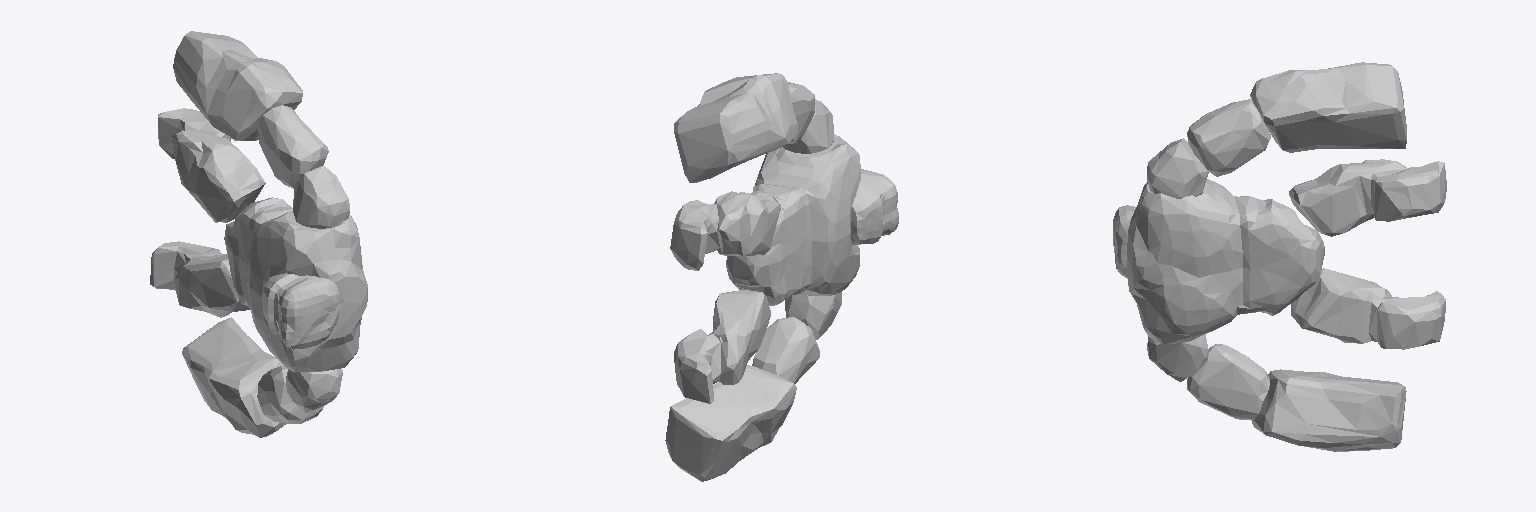
Rendered from Stone.obj.
3 renders of one model, left to right at view 1: azimuth 30°, elevation 25°; view 2: azimuth 150°, elevation 25°; view 3: azimuth 270°, elevation 25°, orthographic.
Parts seen in each view (by area): view 1: hands&leg.001_ice.003, torso.001_ice.005, head.001_ice.004; view 2: hands&leg.001_ice.003, torso.001_ice.005, head.001_ice.004; view 3: hands&leg.001_ice.003, torso.001_ice.005, head.001_ice.004.
Boxes of the visible parts, <box> form: hands&leg.001_ice.003: <box>150,31,349,437</box>; torso.001_ice.005: <box>224,197,367,371</box>; head.001_ice.004: <box>262,273,338,349</box>; hands&leg.001_ice.003: <box>665,73,841,481</box>; torso.001_ice.005: <box>726,134,860,305</box>; head.001_ice.004: <box>851,169,898,244</box>; hands&leg.001_ice.003: <box>1147,62,1446,451</box>; torso.001_ice.005: <box>1127,179,1324,344</box>; head.001_ice.004: <box>1113,205,1135,278</box>.
Size of the model in its own units: 3.41 by 11.9 by 9.58.